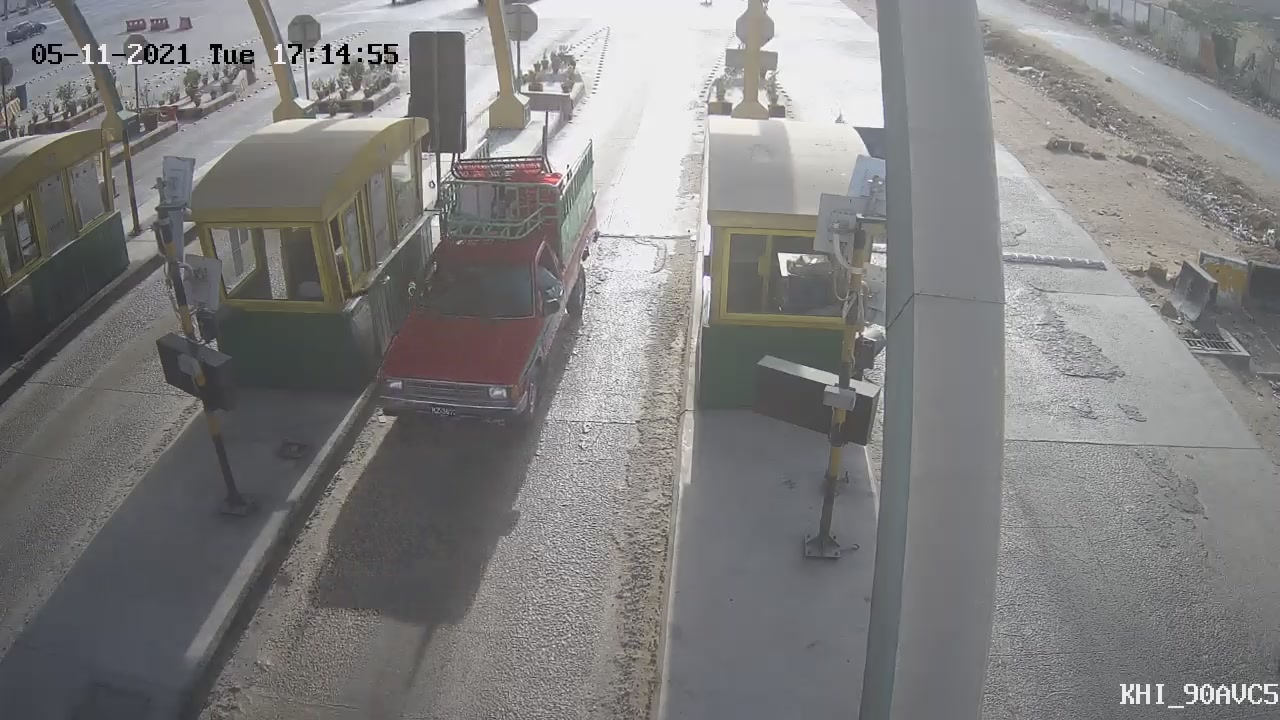F1: (351, 122, 616, 455)
